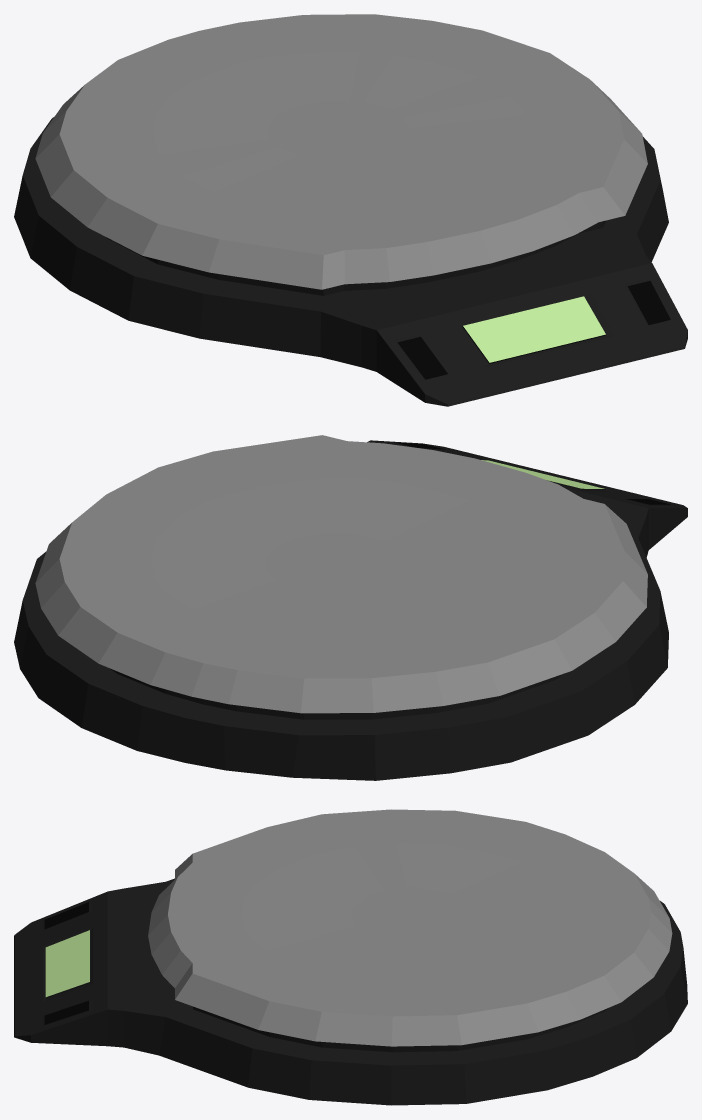
File: ScaleModel.fbx
3 renders of one model, top to bottom at view 1: azimuth 30°, elevation 25°; view 2: azimuth 150°, elevation 25°; view 3: azimuth 270°, elevation 25°, orthographic. The views are drawn at different scales.
Parts seen in each view (by area): view 1: ScaleModel; view 2: ScaleModel; view 3: ScaleModel.
Boxes of the visible parts, left/top/right/bottom form: ScaleModel: left=14, top=14, right=687, bottom=406; ScaleModel: left=14, top=435, right=687, bottom=780; ScaleModel: left=14, top=809, right=687, bottom=1105.
Size of the model in its own units: 497 by 71.18 by 590.
